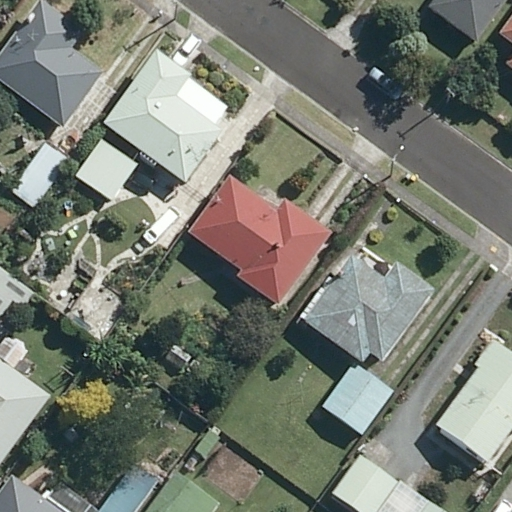DT: (439, 83, 457, 118)
